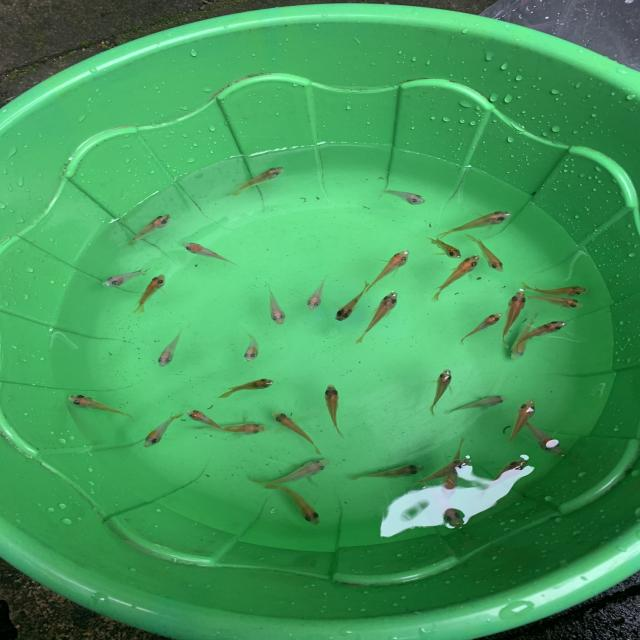nila: (352, 284, 405, 348), (250, 453, 340, 487), (430, 250, 482, 306), (269, 409, 327, 456), (276, 480, 328, 532), (64, 388, 140, 422), (438, 208, 516, 240), (112, 213, 171, 254), (224, 164, 293, 199), (415, 452, 488, 485), (364, 248, 413, 296), (518, 420, 576, 460), (491, 286, 532, 342), (177, 237, 246, 270), (459, 230, 506, 277), (506, 307, 541, 370), (139, 409, 191, 451), (329, 276, 374, 324), (348, 462, 435, 486), (504, 394, 543, 442), (153, 322, 190, 372), (511, 316, 572, 346), (442, 389, 507, 417), (323, 378, 352, 439), (132, 274, 174, 316), (422, 365, 456, 416), (458, 308, 506, 344), (220, 373, 277, 402), (260, 284, 290, 330), (184, 408, 230, 438), (182, 420, 268, 436), (98, 265, 152, 290), (304, 273, 335, 316), (522, 291, 586, 311), (422, 232, 464, 262), (522, 281, 594, 296), (380, 186, 430, 207), (237, 328, 262, 369)
